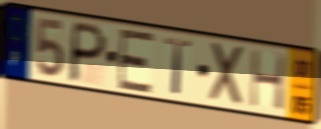5: (35, 15, 66, 79)
E: (116, 28, 157, 96)
H: (248, 47, 288, 113)
P: (65, 20, 109, 86)
T: (163, 36, 194, 98)
X: (209, 40, 247, 110)
